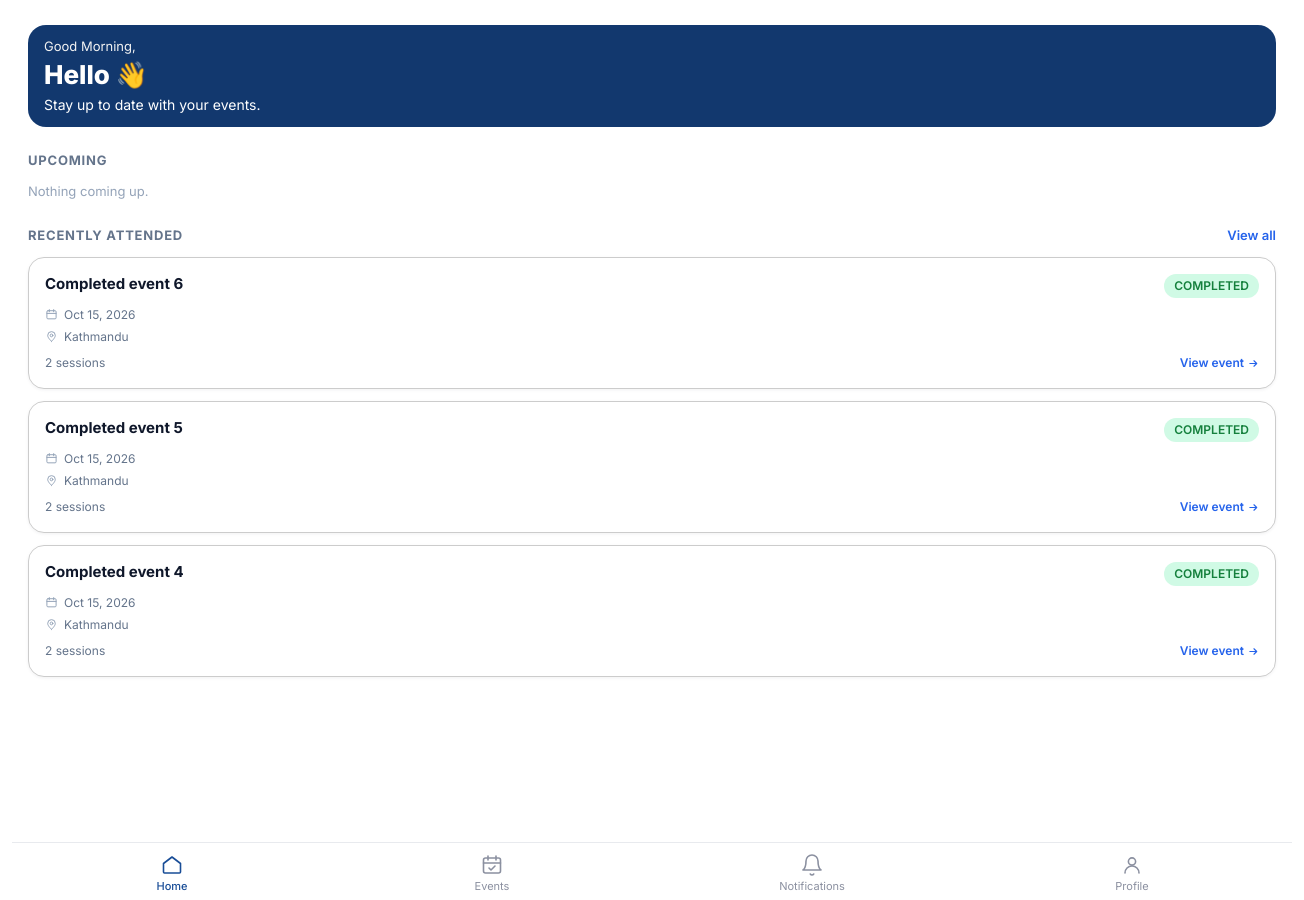
Test: home › also paginates the completed My Events tab by five newest first
Click the button "Events": (492, 872) x1=332 y1=843 x2=652 y2=899
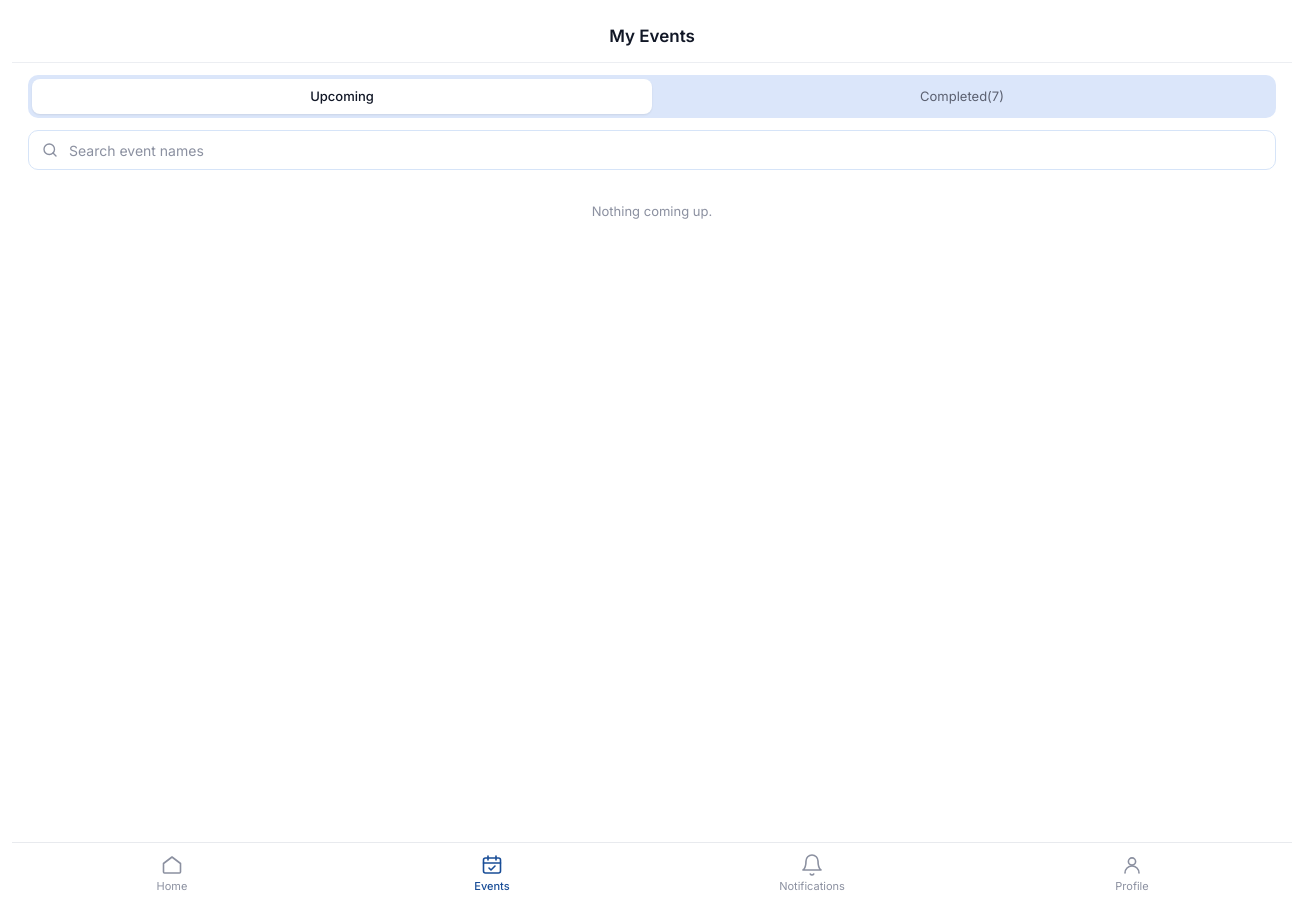
Click the button "Completed(7)": (962, 96) x1=652 y1=78 x2=1272 y2=114
(page scrolled)
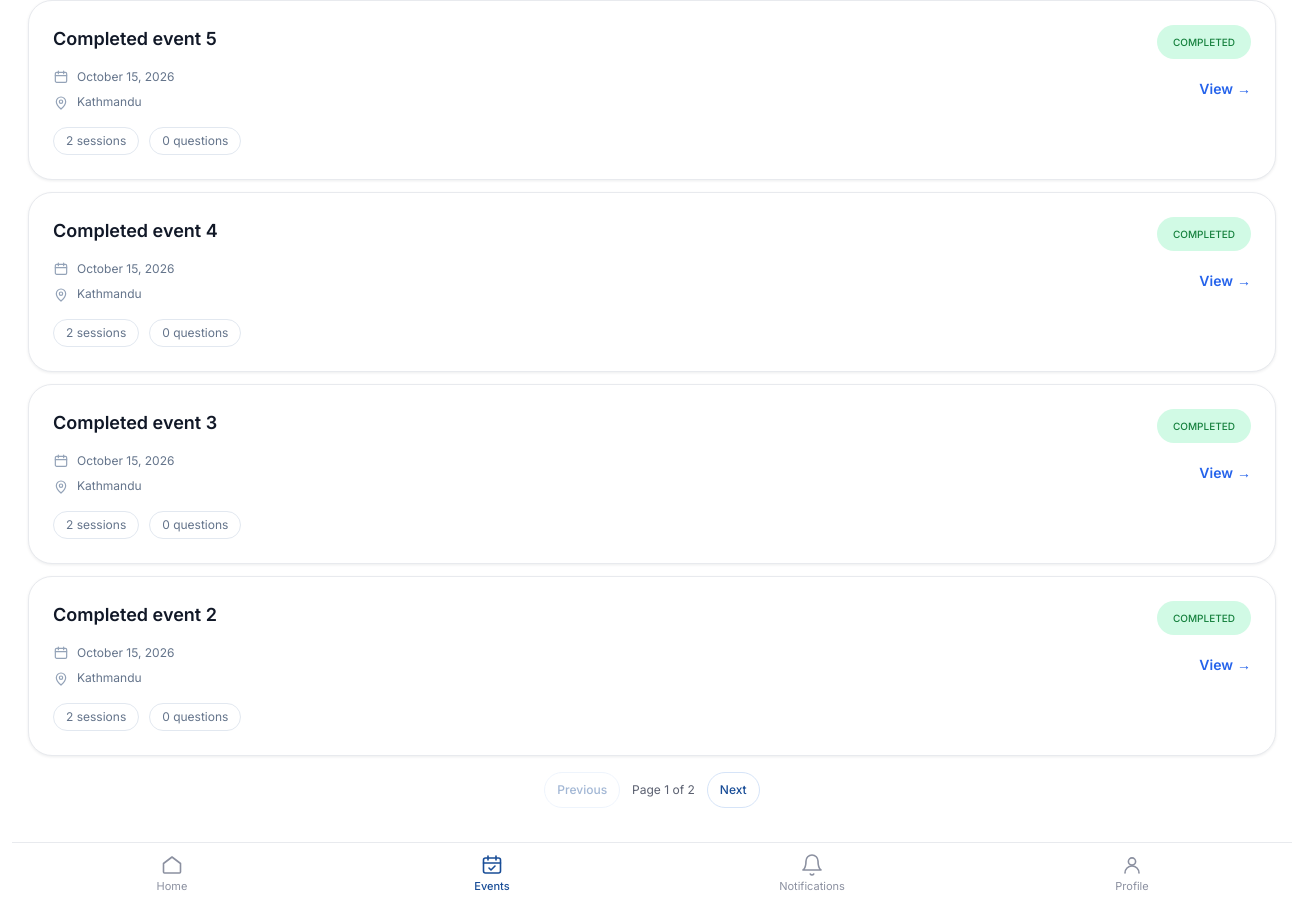
Expected: the text "Completed event 1" is not shown
Expected: the heading "Completed event 2" is shown, x1=53 y1=601 x2=217 y2=628
Click the button "Next": (733, 790) x1=707 y1=772 x2=760 y2=808
(page scrolled)
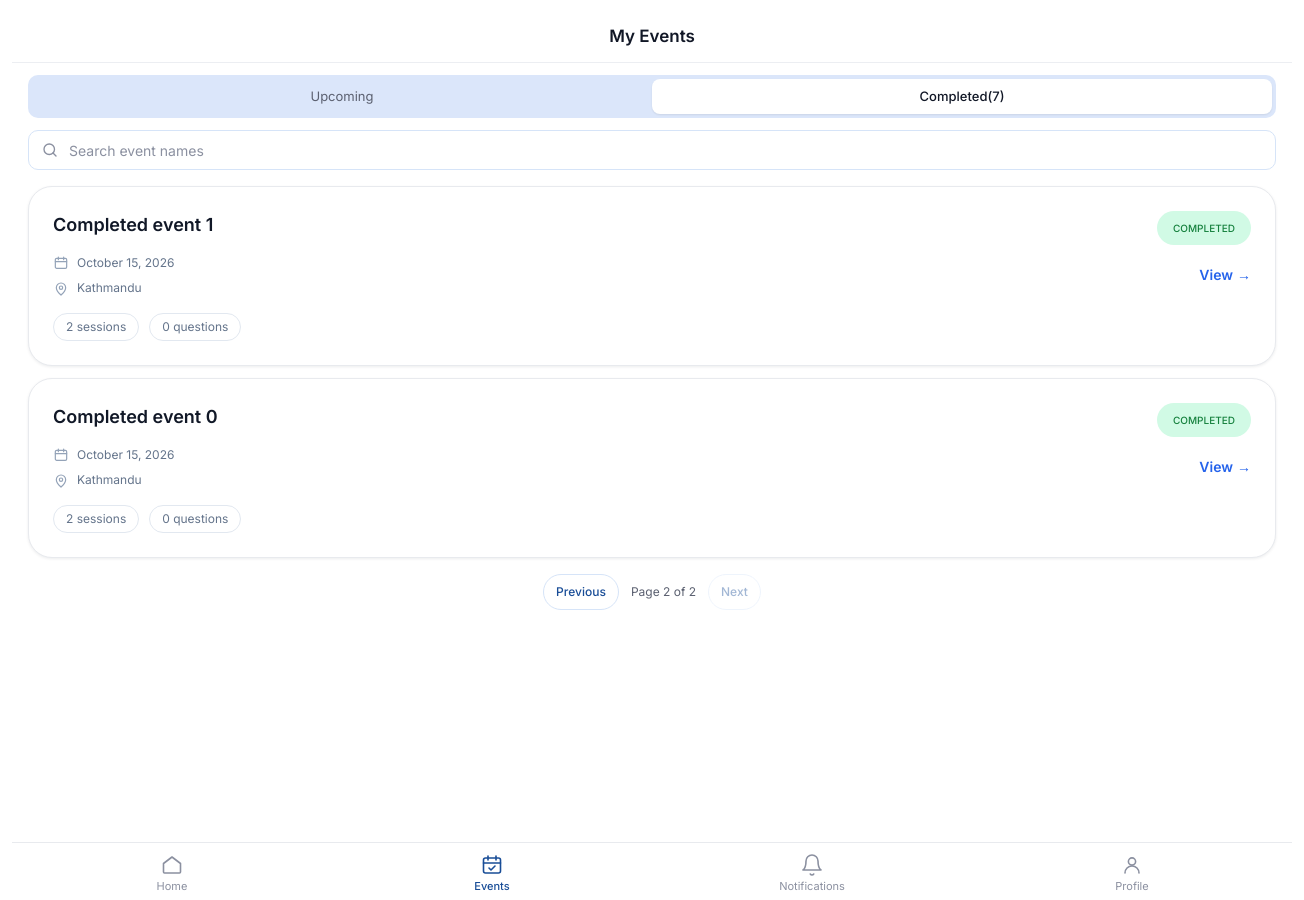
Expected: the heading "Completed event 1" is shown, x1=53 y1=211 x2=213 y2=238
Expected: the heading "Completed event 0" is shown, x1=53 y1=403 x2=218 y2=430
